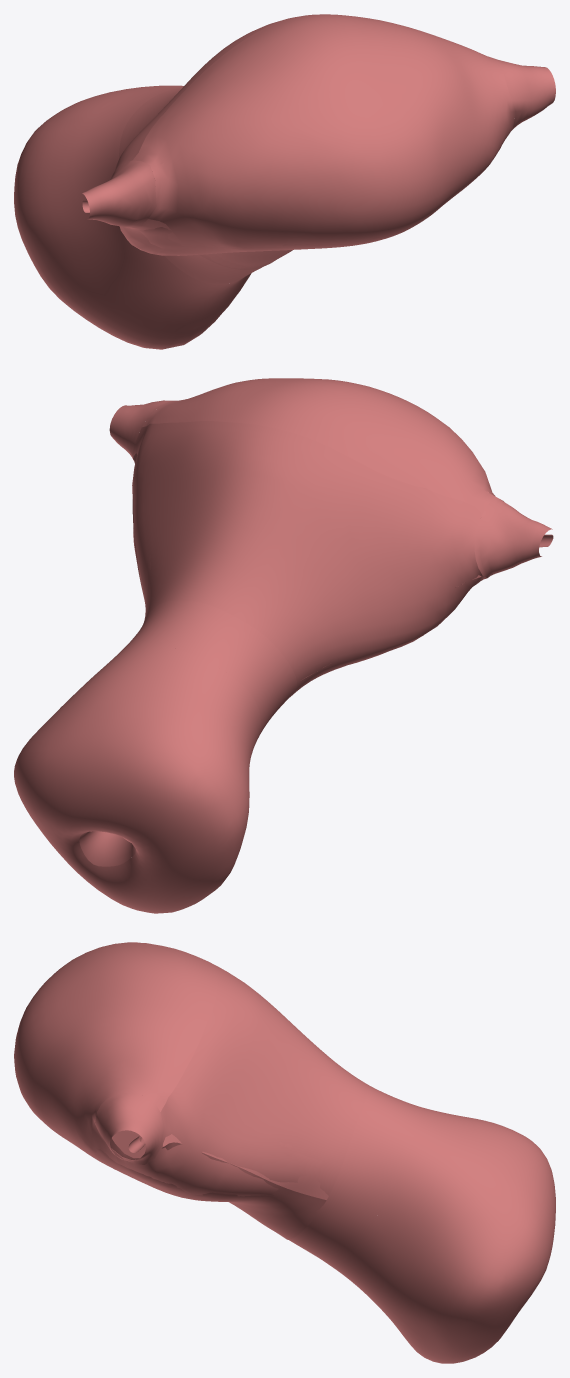
The model's file is hra-uterus-female-v1.glb.
3 views of the same model, one above another, from view 1: azimuth 30°, elevation 25°; view 2: azimuth 150°, elevation 25°; view 3: azimuth 270°, elevation 25° (orthographic). The views are drawn at different scales.
Parts seen in each view (by area): view 1: VH_F_fundus_of_uterus, VH_F_cervix, VH_F_cornua, VH_F_posterior_wall_of_uterus, VH_F_lower_uterine_segment, VH_F_body_of_uterus; view 2: VH_F_body_of_uterus, VH_F_cervix, VH_F_fundus_of_uterus, VH_F_lower_uterine_segment, VH_F_cornua, VH_F_external_cervical_os; view 3: VH_F_cervix, VH_F_body_of_uterus, VH_F_fundus_of_uterus, VH_F_lower_uterine_segment, VH_F_posterior_wall_of_uterus, VH_F_cornua, VH_F_anterior_wall_of_uterus.
Part boxes in pixels (x1,y1,x2,y2): VH_F_fundus_of_uterus: (132,14,516,248); VH_F_cervix: (14,85,251,349); VH_F_cornua: (82,58,555,227); VH_F_posterior_wall_of_uterus: (140,146,501,269); VH_F_lower_uterine_segment: (119,87,262,284); VH_F_body_of_uterus: (114,18,511,268); VH_F_body_of_uterus: (132,421,486,695); VH_F_cervix: (14,642,261,913); VH_F_fundus_of_uterus: (142,378,495,513); VH_F_lower_uterine_segment: (124,600,296,737); VH_F_cornua: (109,400,552,578); VH_F_external_cervical_os: (79,831,136,866); VH_F_cervix: (332,1106,555,1363); VH_F_body_of_uterus: (112,962,366,1213); VH_F_fundus_of_uterus: (14,942,217,1163); VH_F_lower_uterine_segment: (289,1083,419,1266); VH_F_posterior_wall_of_uterus: (40,1119,326,1239); VH_F_cornua: (95,942,164,1164); VH_F_anterior_wall_of_uterus: (162,1134,328,1199).
Bounding box in the file's own units: 0.0525 × 0.047 × 0.0587.
